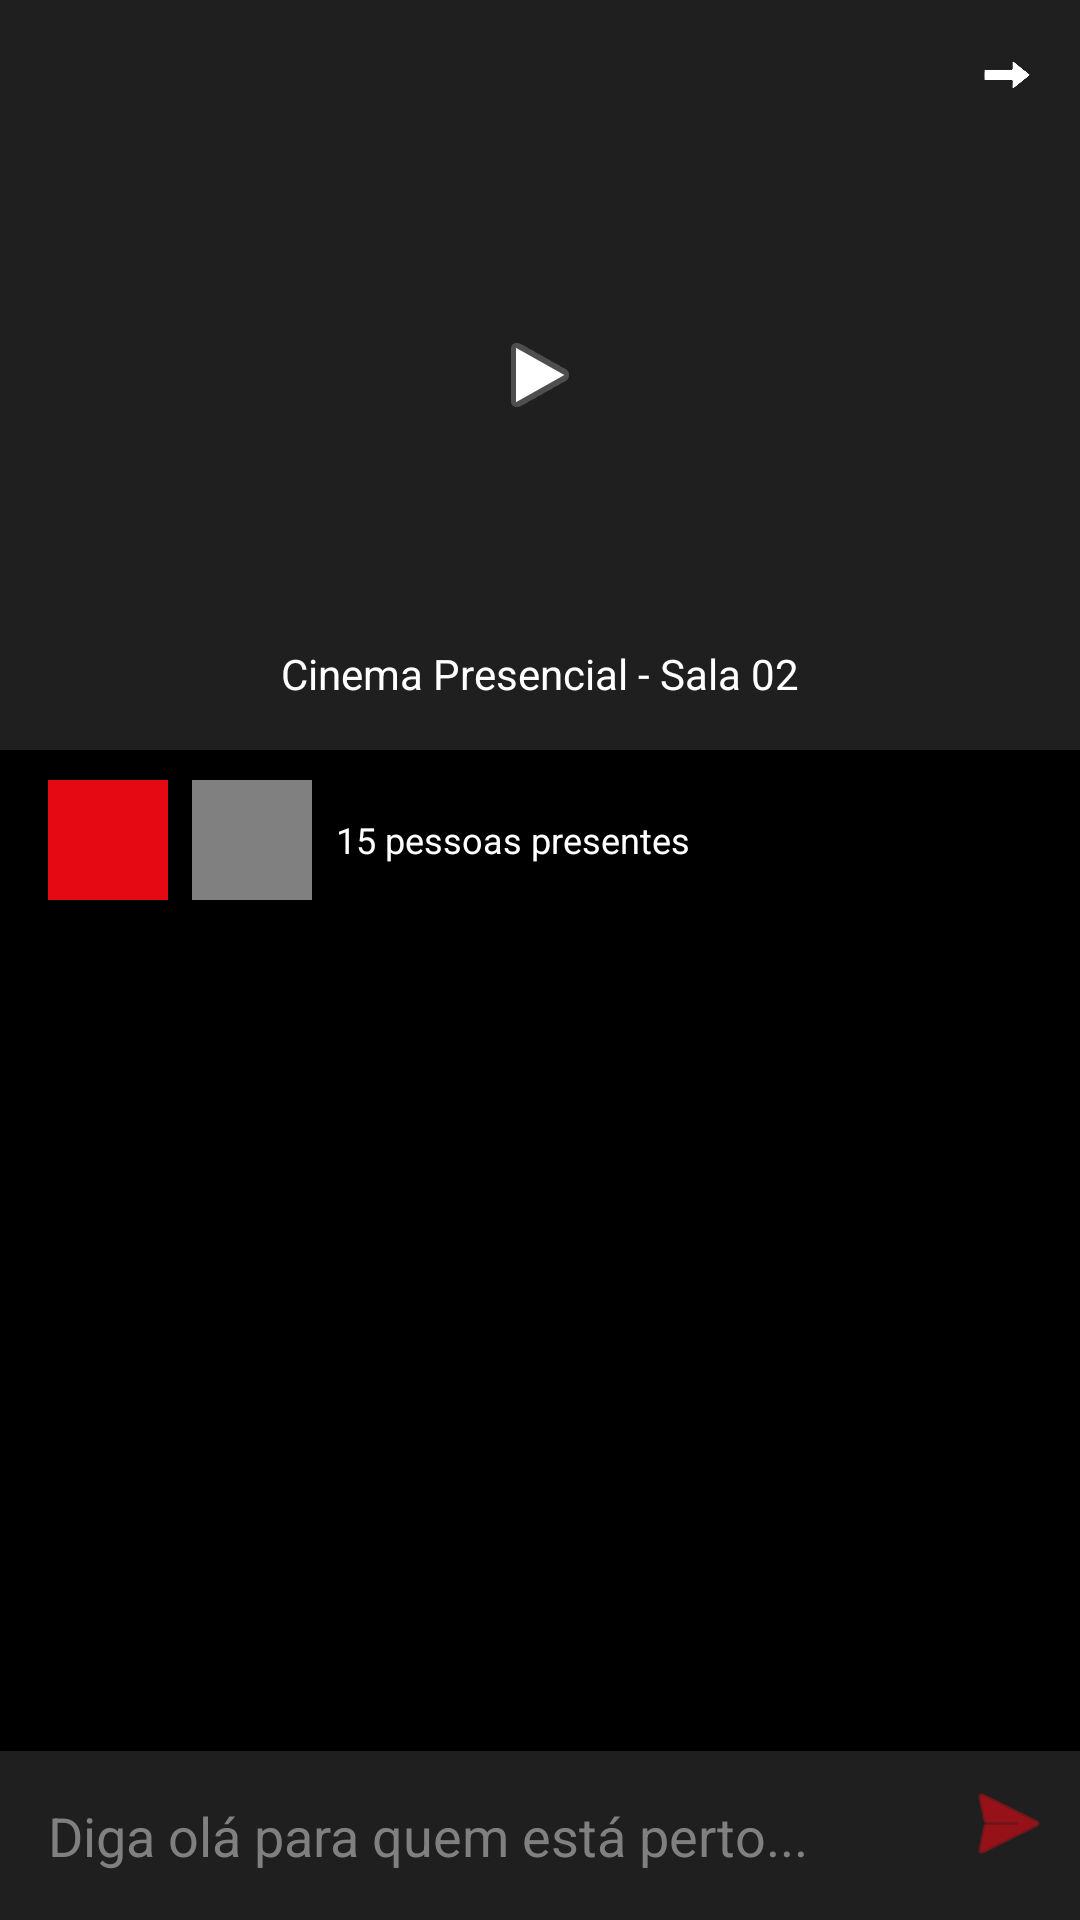

Named icons in this screenshot (1080×1920) and their centers, (x=x, y=y):
play: (x=540, y=375)
send: (x=1009, y=1823)
